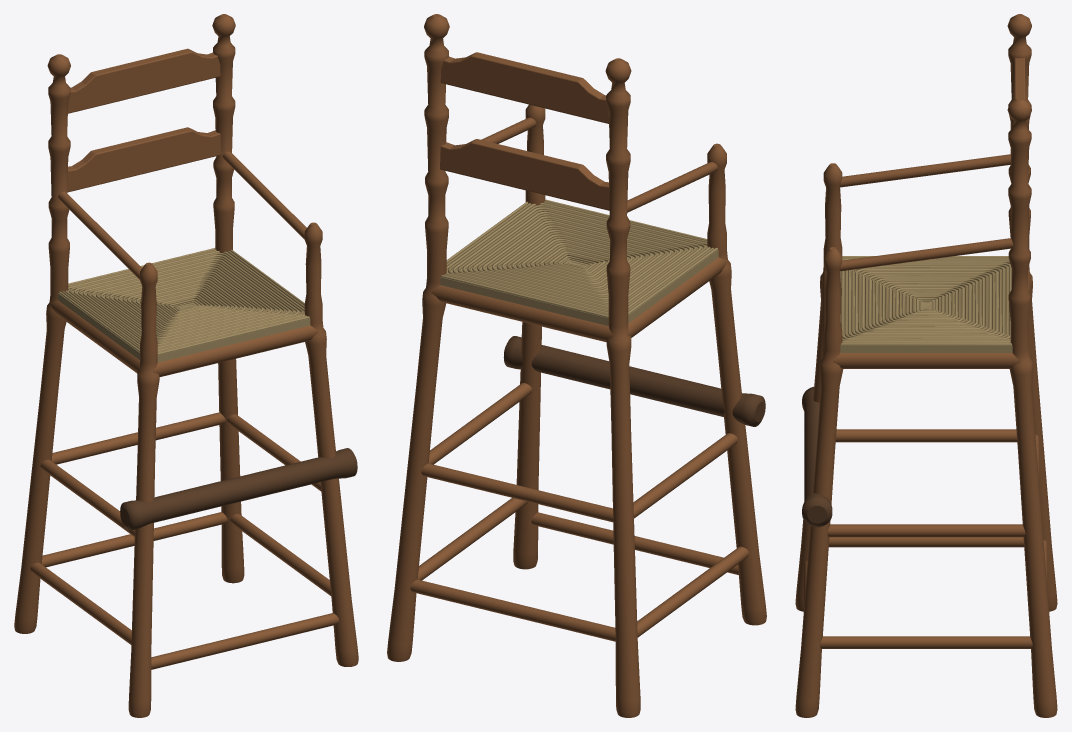
The model's file is A-NEW-20261026-WOOD-HIGH-CHAIR-001_LOD0_R2.fbx.
3 renders of one model, left to right at view 1: azimuth 30°, elevation 25°; view 2: azimuth 150°, elevation 25°; view 3: azimuth 270°, elevation 25°, orthographic. The views are drawn at different scales.
Parts seen in each view (by area): view 1: rear left turned post, front left turned post, front right turned post, rear right turned post, projecting dark footrest, scalloped back board 0, scalloped back board 1, front seat rail, low front stretcher, closed rush seat substrate, rear stretcher 0.13, rear stretcher 0.335 (+24 smaller); view 2: rear left turned post, rear right turned post, front left turned post, scalloped back board 0, projecting dark footrest, scalloped back board 1, front right turned post, rear seat rail, rear stretcher 0.13, closed rush seat substrate, rear stretcher 0.335, low front stretcher (+23 smaller); view 3: rear right turned post, front right turned post, closed rush seat substrate, rear left turned post, right seat rail, front left turned post, right side stretcher 0.335, right side stretcher 0.13, left side stretcher 0.335, projecting dark footrest, left side stretcher 0.13, right arm rail (+23 smaller).
Part boxes in pixels (bbox=[...]): rear left turned post: bbox=[14, 54, 70, 633]; front left turned post: bbox=[128, 262, 159, 717]; front right turned post: bbox=[304, 222, 358, 666]; rear right turned post: bbox=[212, 14, 244, 583]; projecting dark footrest: bbox=[120, 448, 357, 530]; scalloped back board 0: bbox=[67, 127, 221, 192]; scalloped back board 1: bbox=[68, 48, 220, 113]; front seat rail: bbox=[153, 325, 318, 376]; low front stretcher: bbox=[151, 613, 338, 669]; closed rush seat substrate: bbox=[58, 289, 310, 362]; rear stretcher 0.13: bbox=[41, 512, 227, 567]; rear stretcher 0.335: bbox=[51, 412, 225, 464]; rear left turned post: bbox=[605, 58, 640, 717]; rear right turned post: bbox=[387, 14, 449, 661]; front left turned post: bbox=[707, 143, 766, 625]; scalloped back board 0: bbox=[440, 139, 609, 210]; projecting dark footrest: bbox=[503, 336, 765, 426]; scalloped back board 1: bbox=[440, 52, 608, 123]; front right turned post: bbox=[513, 104, 545, 569]; rear seat rail: bbox=[431, 285, 613, 342]; rear stretcher 0.13: bbox=[410, 579, 615, 641]; closed rush seat substrate: bbox=[440, 245, 718, 325]; rear stretcher 0.335: bbox=[421, 463, 613, 522]; low front stretcher: bbox=[531, 512, 738, 575]; rear right turned post: bbox=[1007, 98, 1057, 717]; front right turned post: bbox=[795, 247, 843, 717]; closed rush seat substrate: bbox=[840, 264, 1012, 352]; rear left turned post: bbox=[1007, 14, 1057, 611]; right seat rail: bbox=[833, 353, 1019, 368]; front left turned post: bbox=[795, 163, 842, 611]; right side stretcher 0.335: bbox=[827, 524, 1025, 537]; right side stretcher 0.13: bbox=[820, 636, 1032, 648]; left side stretcher 0.335: bbox=[835, 429, 1017, 442]; projecting dark footrest: bbox=[802, 386, 832, 527]; left side stretcher 0.13: bbox=[828, 537, 1024, 547]; right arm rail: bbox=[839, 238, 1013, 271].
Bounding box in the file's own units: 47 × 114 × 44.89.
